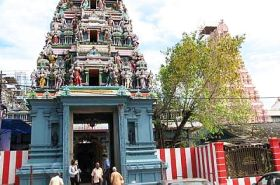Hindu Temple: (24, 1, 150, 165)
